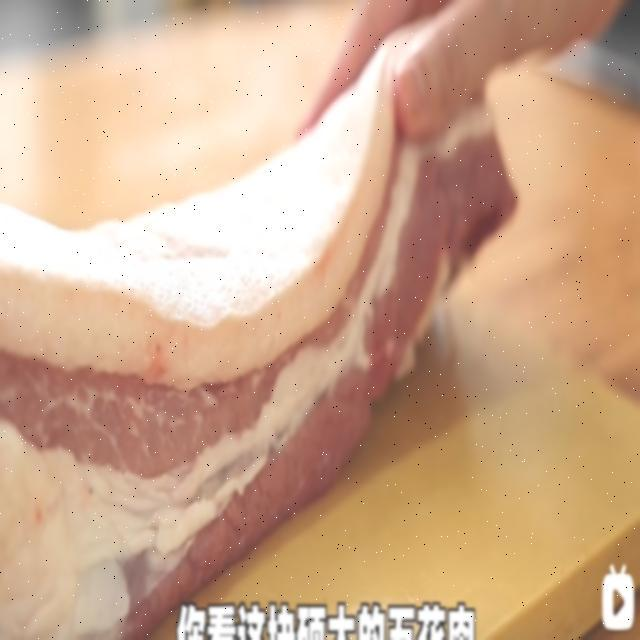pork: (0, 183, 455, 602)
